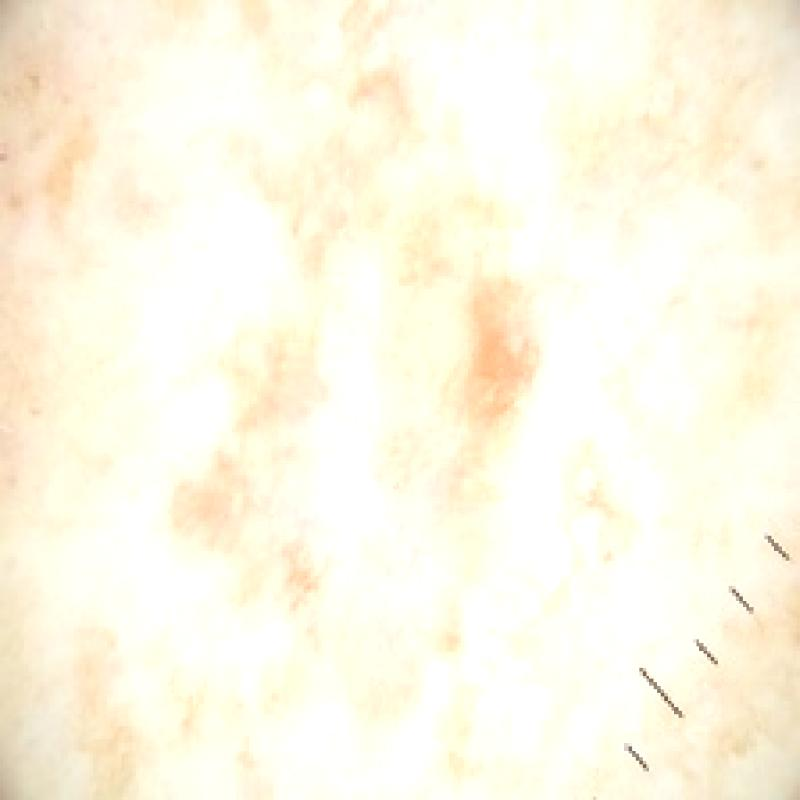malignant: (135, 28, 648, 706)
